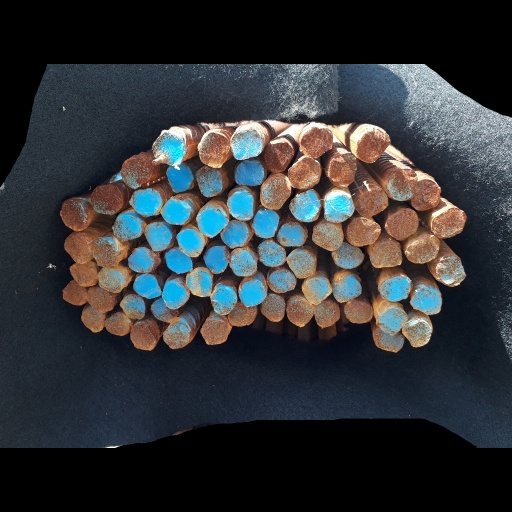dipstick: (356, 129, 391, 164), (431, 205, 466, 240), (260, 172, 291, 209), (152, 131, 184, 165), (299, 128, 333, 159), (403, 235, 439, 264), (409, 178, 441, 210), (58, 198, 90, 230), (198, 134, 229, 167), (90, 184, 123, 215), (385, 209, 419, 239), (287, 158, 321, 188), (434, 256, 467, 286), (231, 127, 261, 160), (288, 190, 320, 220), (388, 168, 417, 201), (263, 140, 292, 173), (355, 190, 390, 217), (121, 157, 152, 187), (348, 216, 380, 245), (410, 286, 441, 315), (322, 195, 355, 222), (329, 242, 364, 267), (64, 233, 94, 262), (312, 223, 343, 251), (195, 209, 226, 237), (227, 189, 254, 221), (129, 189, 161, 216), (379, 275, 412, 301), (287, 249, 316, 278), (328, 155, 356, 185), (250, 208, 278, 238), (377, 308, 408, 335), (331, 276, 362, 303), (300, 278, 331, 305), (159, 197, 190, 224), (89, 239, 120, 266), (370, 242, 402, 268), (402, 318, 431, 346), (143, 223, 172, 251), (312, 299, 340, 327), (286, 299, 314, 327), (237, 280, 265, 308), (79, 304, 107, 332), (164, 166, 193, 193), (196, 167, 222, 197), (131, 320, 157, 350), (258, 239, 286, 266), (132, 272, 161, 298), (98, 266, 127, 292), (275, 222, 307, 245), (229, 249, 256, 276), (177, 230, 204, 257), (220, 220, 248, 246), (203, 246, 229, 274), (151, 297, 179, 323), (235, 160, 264, 185), (112, 215, 141, 240), (127, 247, 155, 272), (267, 268, 296, 292), (227, 302, 256, 326), (259, 295, 285, 321), (186, 269, 211, 296), (166, 249, 193, 274), (120, 294, 147, 319), (88, 287, 115, 312), (70, 262, 97, 287), (344, 299, 372, 323), (162, 283, 187, 309), (163, 323, 189, 348), (376, 328, 403, 352), (62, 280, 89, 304), (210, 290, 235, 315), (201, 320, 227, 344), (105, 312, 130, 336)
